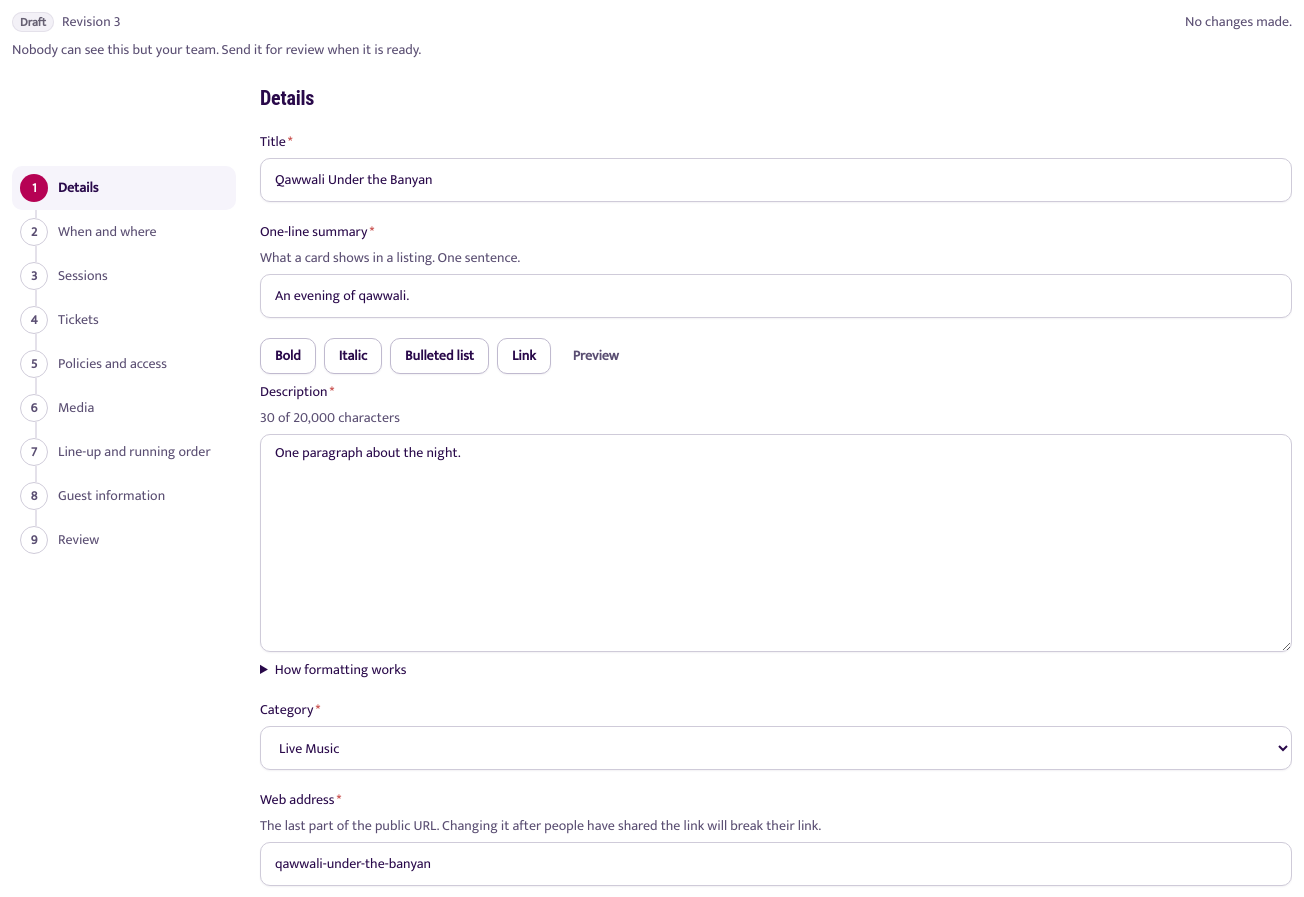
Scenario: when somebody else has saved first › stops, and offers the two honest choices
In the field labelled "Title*": (776, 180) [260,158,1292,202], type "!"
Wait 2000 ms
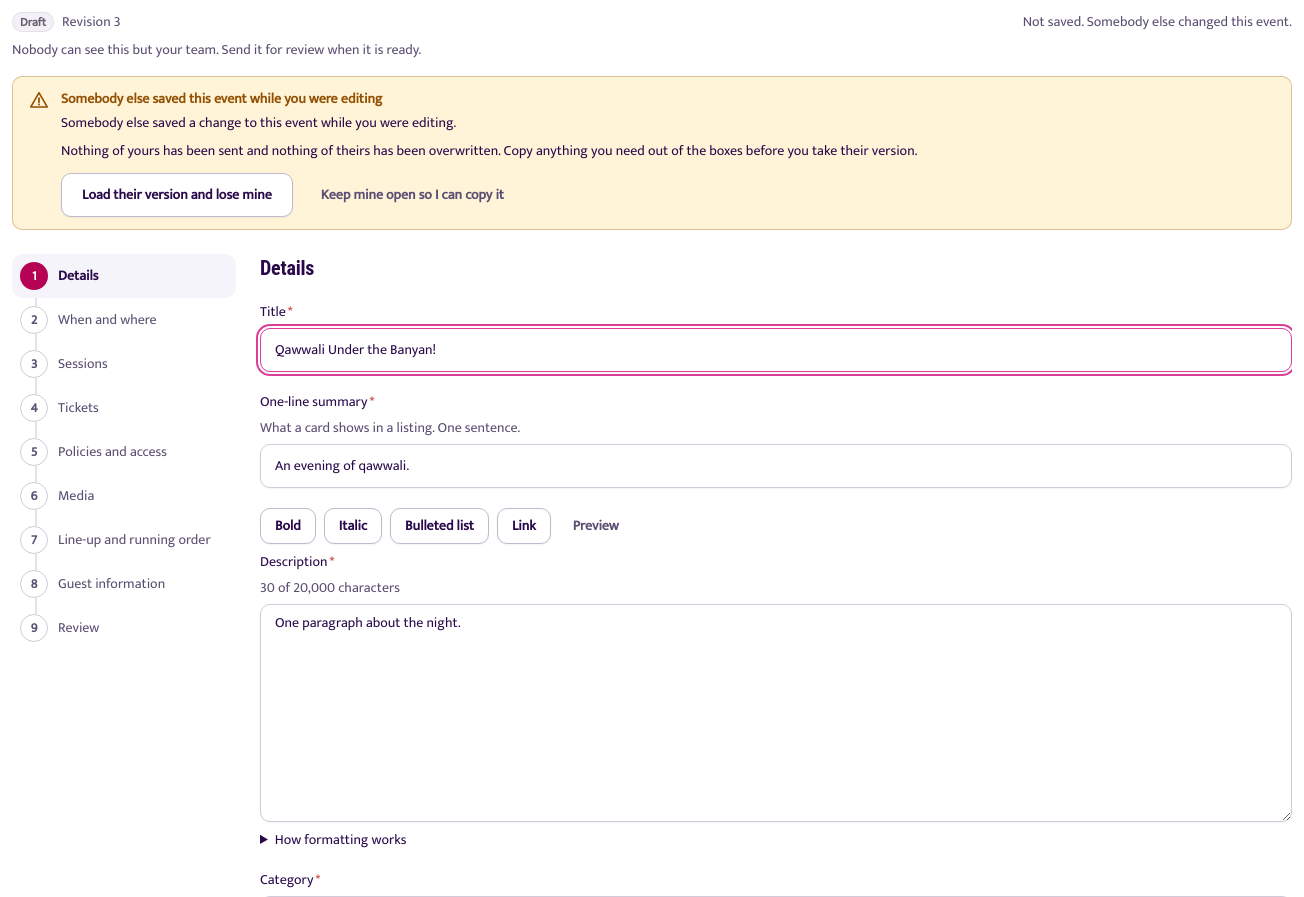
Check: the text "Somebody else saved this event while you were editing" is shown, box [61,87,382,110]
Check: the button "Load their version and lose mine" is shown, box [61,173,293,217]
Check: the button "Keep mine open so I can copy it" is shown, box [301,173,524,217]
